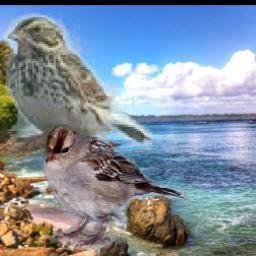Sparrow: (1, 14, 152, 155), (38, 124, 191, 250)
